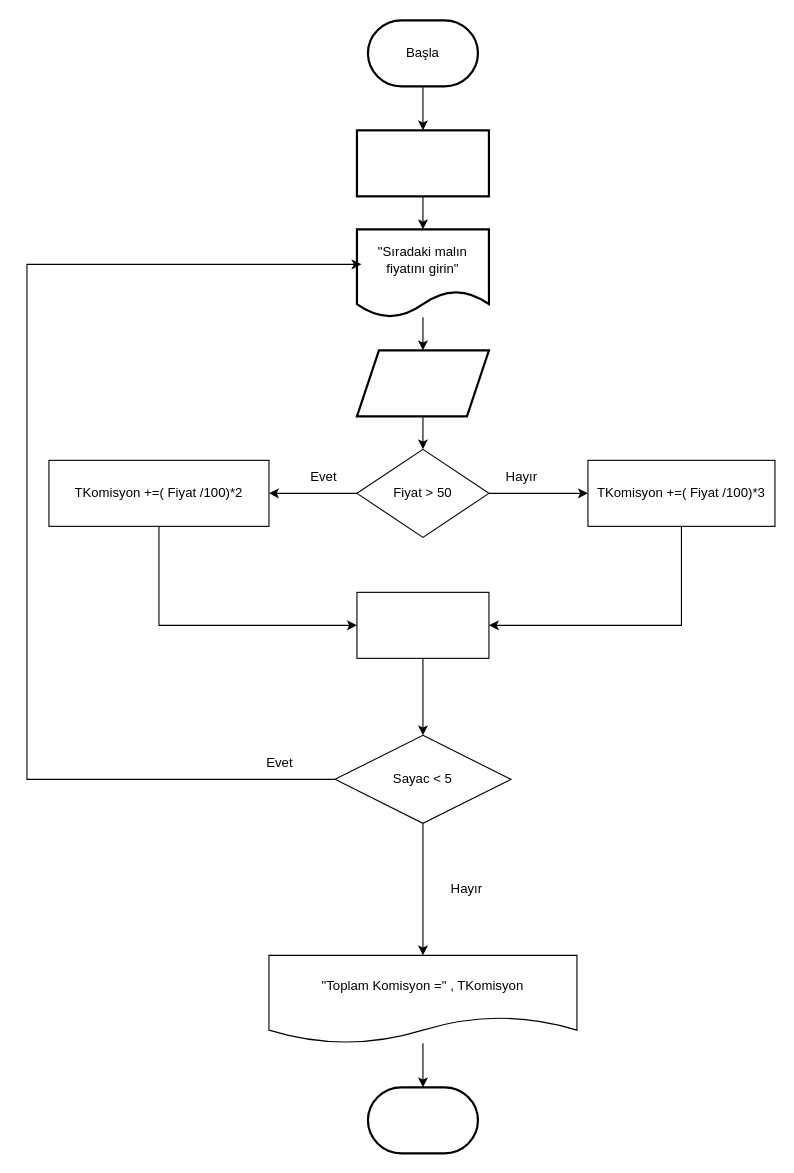
Some shapes in this 794 by 1173 pixel diagram are drawn without their labels. Each missing label, with the centre of its shape:
Bitir: the point at 422,1120
Fiyat: the point at 422,383
Sayac += 1: the point at 422,624
Sayac = 0 TKomisyon = 0: the point at 422,163
